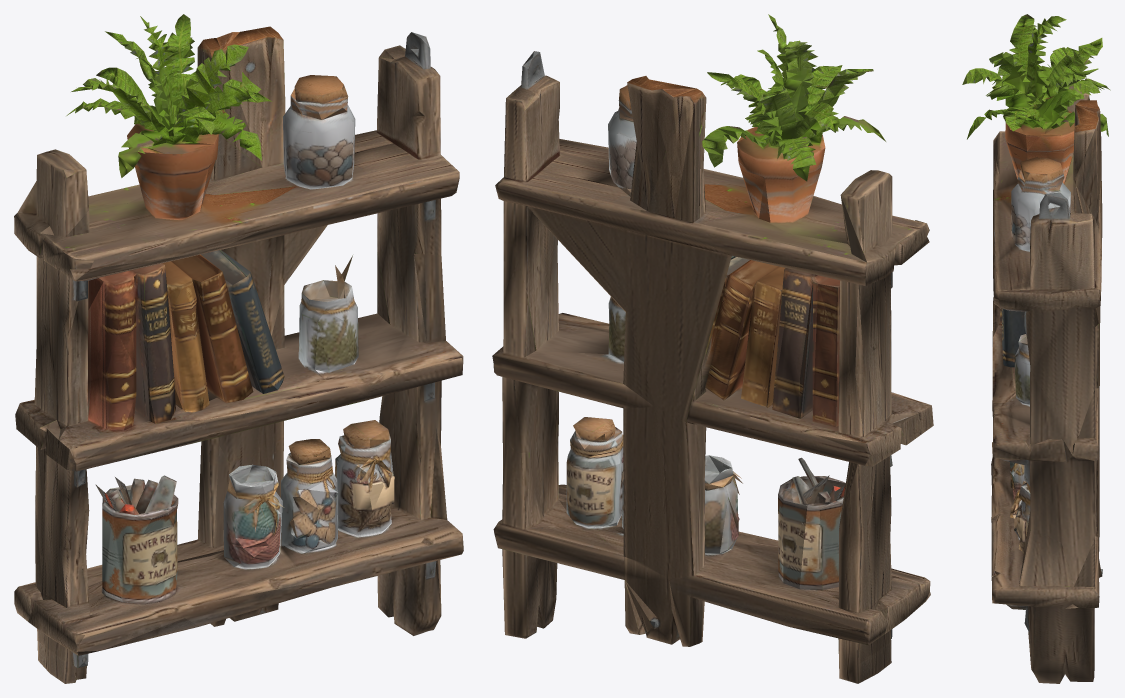
The model's file is Prop_Shelf.fbx.
3 views of the same model, side by side, from view 1: azimuth 30°, elevation 25°; view 2: azimuth 150°, elevation 25°; view 3: azimuth 270°, elevation 25° (orthographic). The views are drawn at different scales.
Parts seen in each view (by area): view 1: Mesh_0; view 2: Mesh_0; view 3: Mesh_0.
Boxes of the visible parts, x1,y1,x2,y2 form: Mesh_0: [14, 14, 463, 683]; Mesh_0: [492, 14, 933, 683]; Mesh_0: [962, 14, 1110, 683].
Size of the model in its own units: 118 by 190 by 46.05.
Materials: 1 (1 with a texture image).
